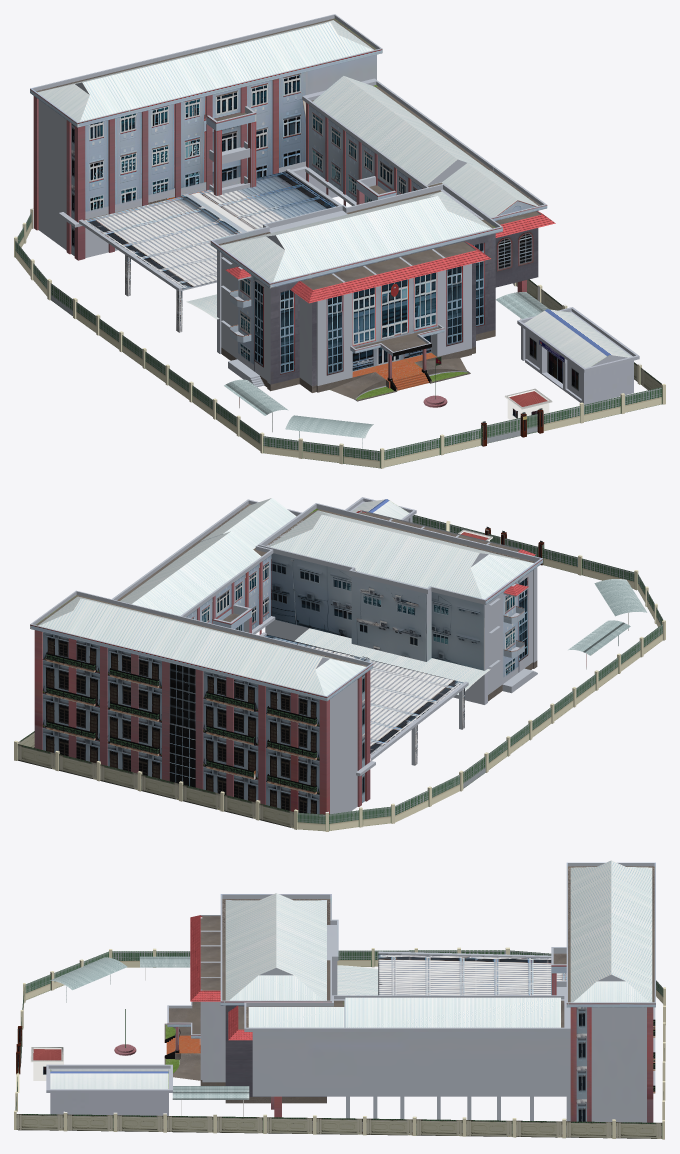
Rendered from Cuc Thue tinh Binh Phuoc.glb.
The picture shows the model from 3 angles, top to bottom: view 1: azimuth 30°, elevation 25°; view 2: azimuth 150°, elevation 25°; view 3: azimuth 270°, elevation 25°; orthographic projection. The views are drawn at different scales.
Visible parts, largest first — view 1: BPH060 cong trinh chinh, BPH060 cong tuong, BPH060 cong trinh phu, BPH060 cong tuong.003, BPH060 cong tuong.002, BPH060 cong tuong.001; view 2: BPH060 cong trinh chinh, BPH060 cong tuong, BPH060 cong tuong.003, BPH060 cong tuong.002, BPH060 cong trinh phu; view 3: BPH060 cong trinh chinh, BPH060 cong tuong, BPH060 cong trinh phu, BPH060 cong tuong.003, BPH060 cong tuong.001, BPH060 cong tuong.002.
Part boxes in pixels (x1,y1,x2,y2): BPH060 cong trinh chinh: [30, 14, 555, 401]; BPH060 cong tuong: [14, 208, 665, 468]; BPH060 cong trinh phu: [517, 307, 639, 404]; BPH060 cong tuong.003: [285, 415, 373, 448]; BPH060 cong tuong.002: [224, 379, 288, 432]; BPH060 cong tuong.001: [496, 292, 549, 319]; BPH060 cong trinh chinh: [30, 498, 542, 814]; BPH060 cong tuong: [14, 515, 665, 831]; BPH060 cong tuong.003: [594, 579, 647, 630]; BPH060 cong tuong.002: [568, 620, 630, 669]; BPH060 cong trinh phu: [345, 497, 416, 522]; BPH060 cong trinh chinh: [164, 860, 655, 1122]; BPH060 cong tuong: [14, 947, 665, 1139]; BPH060 cong trinh phu: [46, 1064, 172, 1115]; BPH060 cong tuong.003: [50, 957, 127, 1002]; BPH060 cong tuong.001: [172, 1086, 249, 1116]; BPH060 cong tuong.002: [140, 956, 190, 980].
Bounding box in the file's own units: 47.68 × 18.76 × 75.62.
3 materials, 3 textured.
